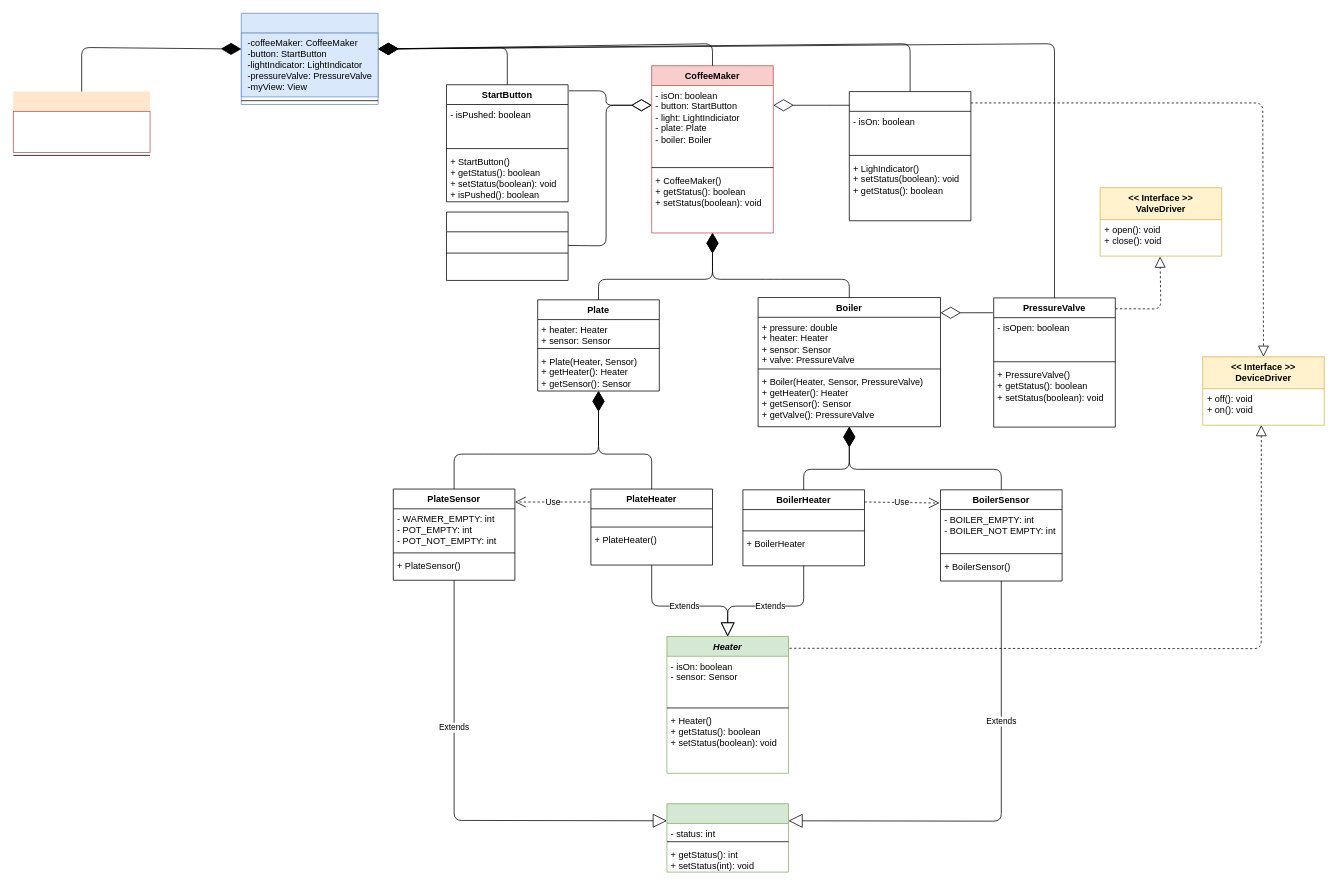
Image size: 1338x885. Some labels were removed from this diagram. The shapes that lost their labels are listed below. From the top down, each one's box as (x1, y1, x2, y2) in pixels, then its label:
(241, 13, 378, 104): Controller
(13, 91, 150, 158): View
(849, 91, 971, 221): LightIndicator
(446, 211, 568, 280): Pot
(666, 803, 788, 872): Sensor
